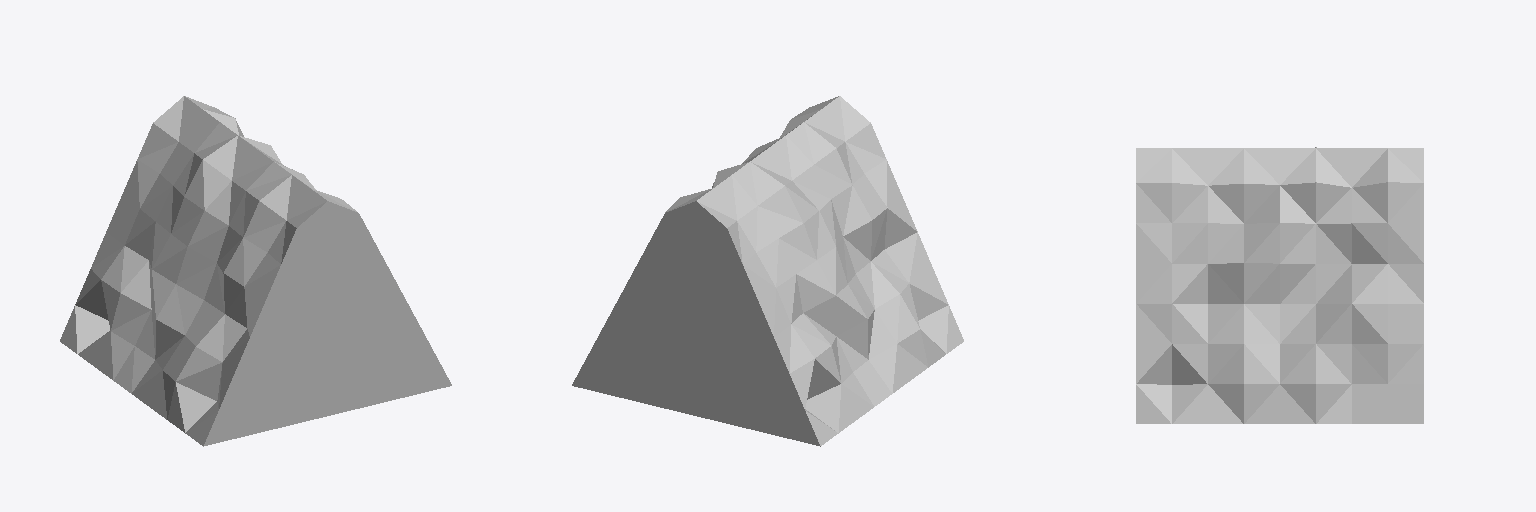
The model's file is double_wall.obj.
3 renders of one model, left to right at view 1: azimuth 30°, elevation 25°; view 2: azimuth 150°, elevation 25°; view 3: azimuth 270°, elevation 25°, orthographic.
Visible parts, largest first — view 1: Cube.009_Cube.015; view 2: Cube.009_Cube.015; view 3: Cube.009_Cube.015.
Part boxes in pixels (x1,y1,x2,y2): Cube.009_Cube.015: (60, 96, 451, 446); Cube.009_Cube.015: (572, 96, 963, 446); Cube.009_Cube.015: (1136, 147, 1423, 423).
Size of the model in its own units: 1 by 0.825 by 1.